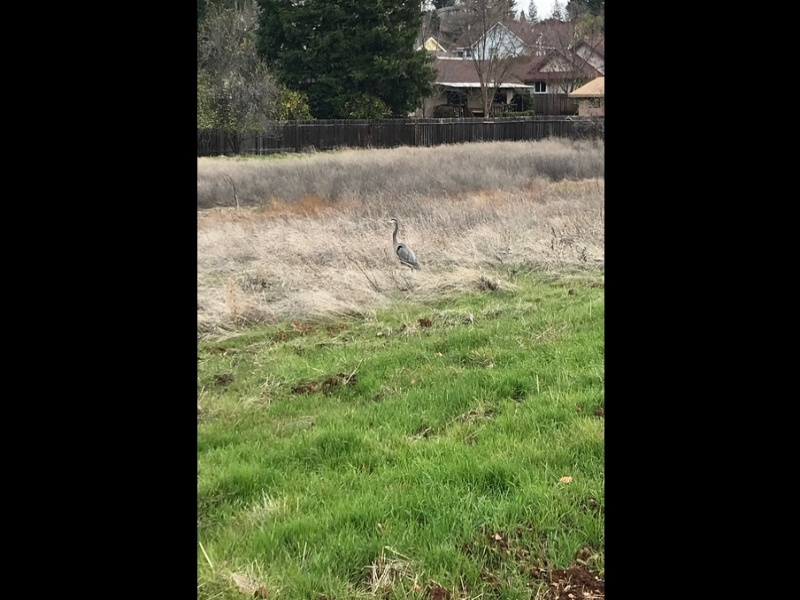heron: (386, 214, 423, 274)
